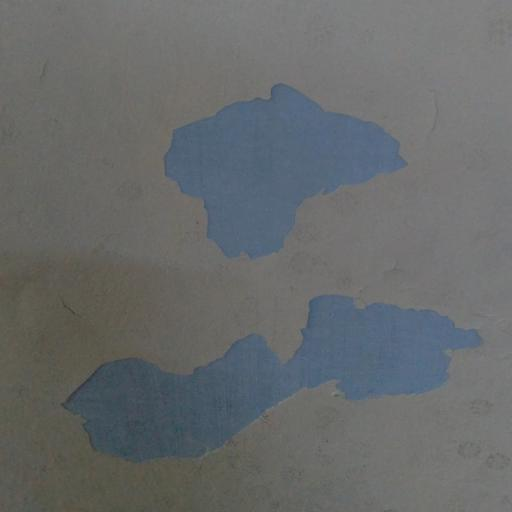peeling: (57, 281, 490, 465), (146, 66, 410, 269)
